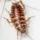cockroach: (10, 2, 28, 33)
